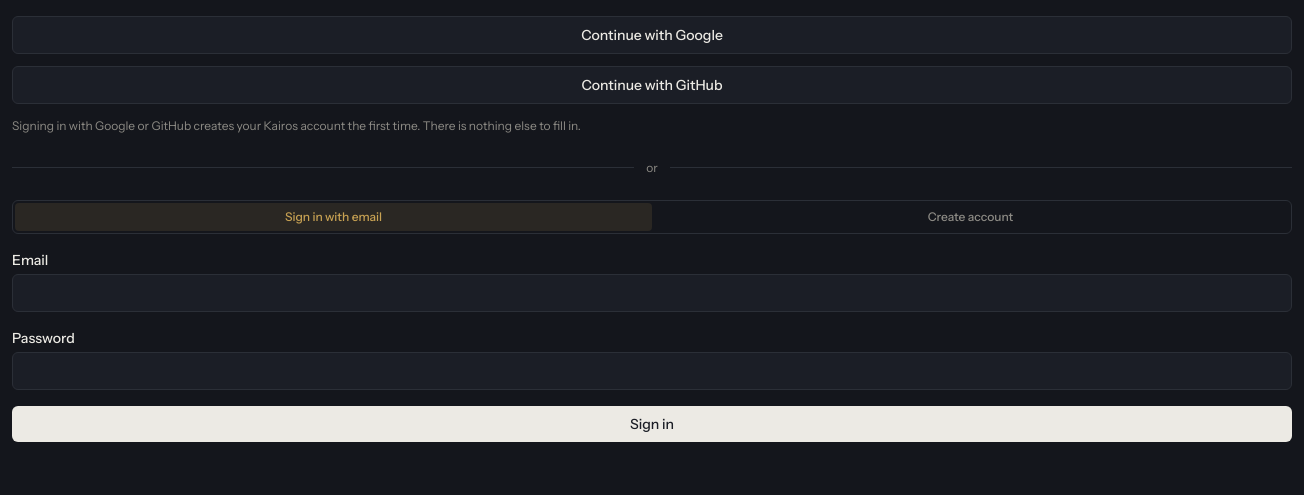
Test: the provider buttons › reports a provider that refuses to start
The width and height of the screenshot is (1304, 495).
Click the button "Continue with Google" at point(652, 35), box top-left (12, 16), bottom-right (1292, 54)
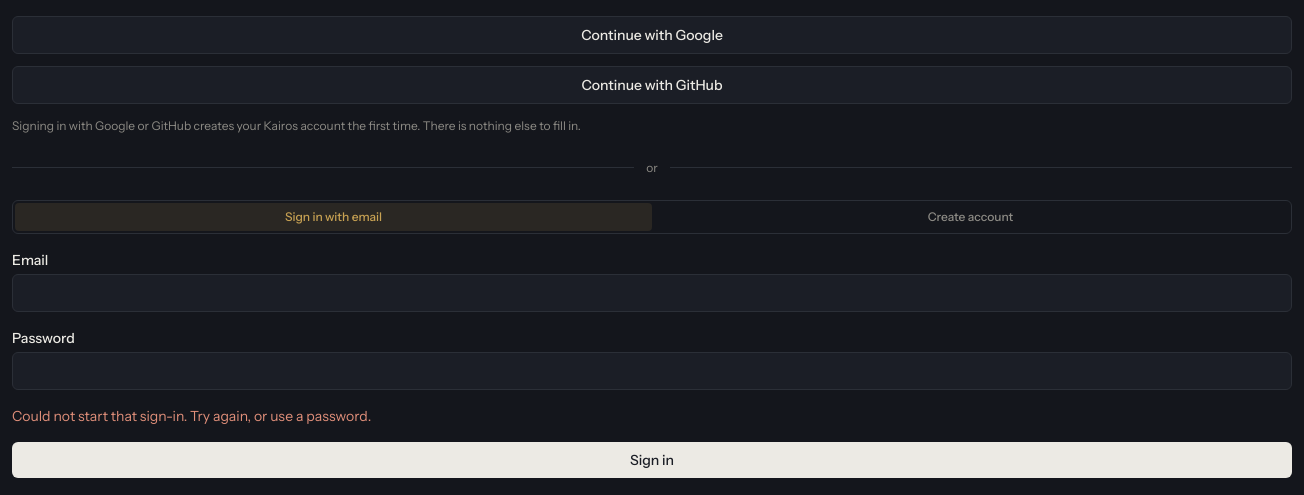
Result: the message "Could not start that sign-in. Try again, or use a password." is shown at top-left (12, 406), bottom-right (371, 424)
